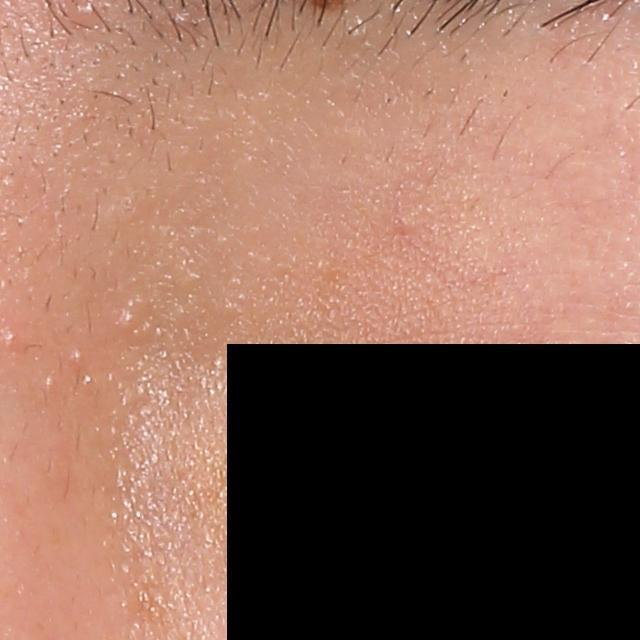comedo: (118, 297, 146, 342), (64, 0, 102, 27), (1, 326, 20, 349)
